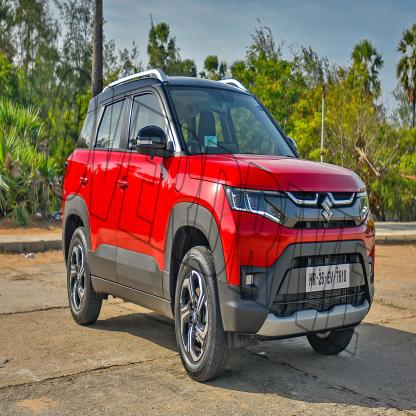car: (58, 70, 378, 359)
